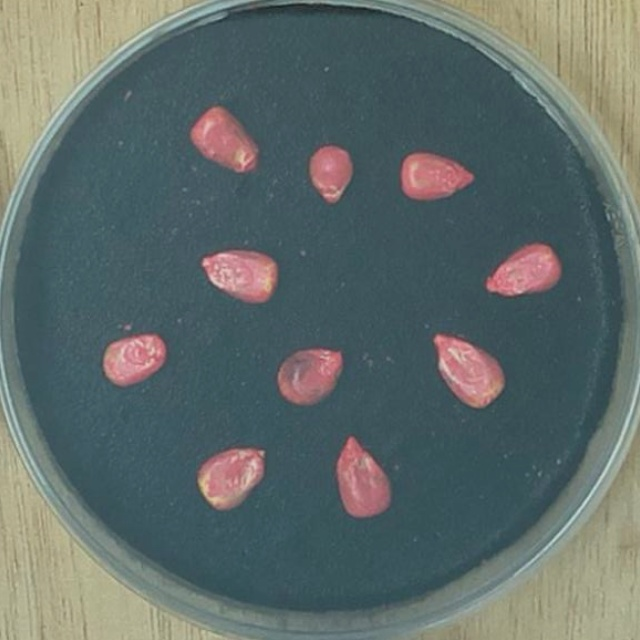Zea mays: (426, 326, 514, 418), (183, 99, 267, 183), (190, 438, 275, 518), (328, 429, 399, 524), (192, 241, 285, 313), (478, 234, 570, 305), (269, 342, 353, 415), (394, 142, 482, 209), (93, 326, 175, 395), (302, 137, 362, 213)
